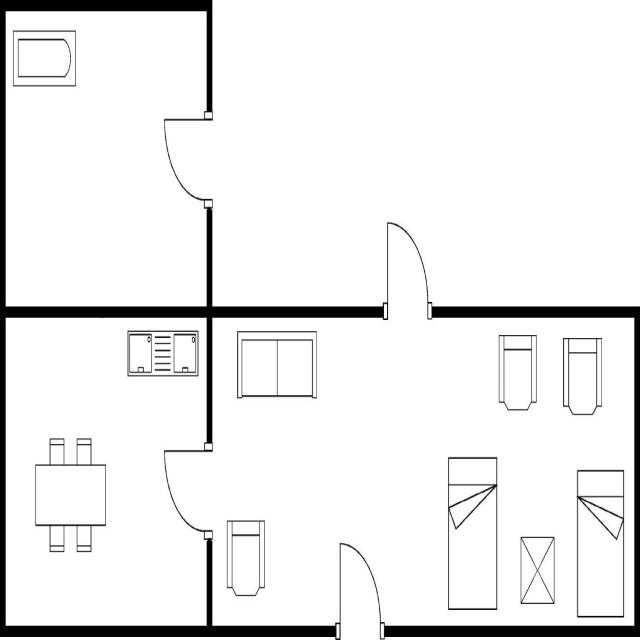armchair: (223, 515, 269, 602), (495, 330, 539, 414), (560, 333, 604, 417)
bed: (445, 450, 499, 614), (575, 466, 626, 620)
coffee_table: (518, 534, 556, 610)
dining_table: (27, 432, 110, 559)
large_sofa: (234, 326, 320, 405)
tub: (11, 25, 78, 91)
twin_sink: (125, 324, 200, 381)
